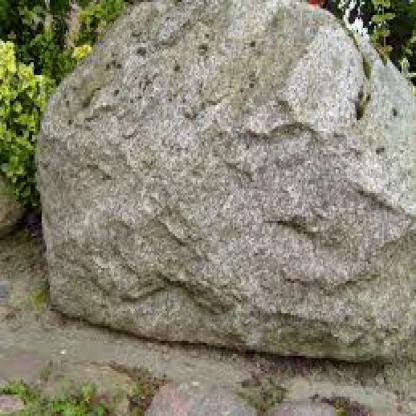Metamorphic_Marble: (26, 4, 414, 376)
